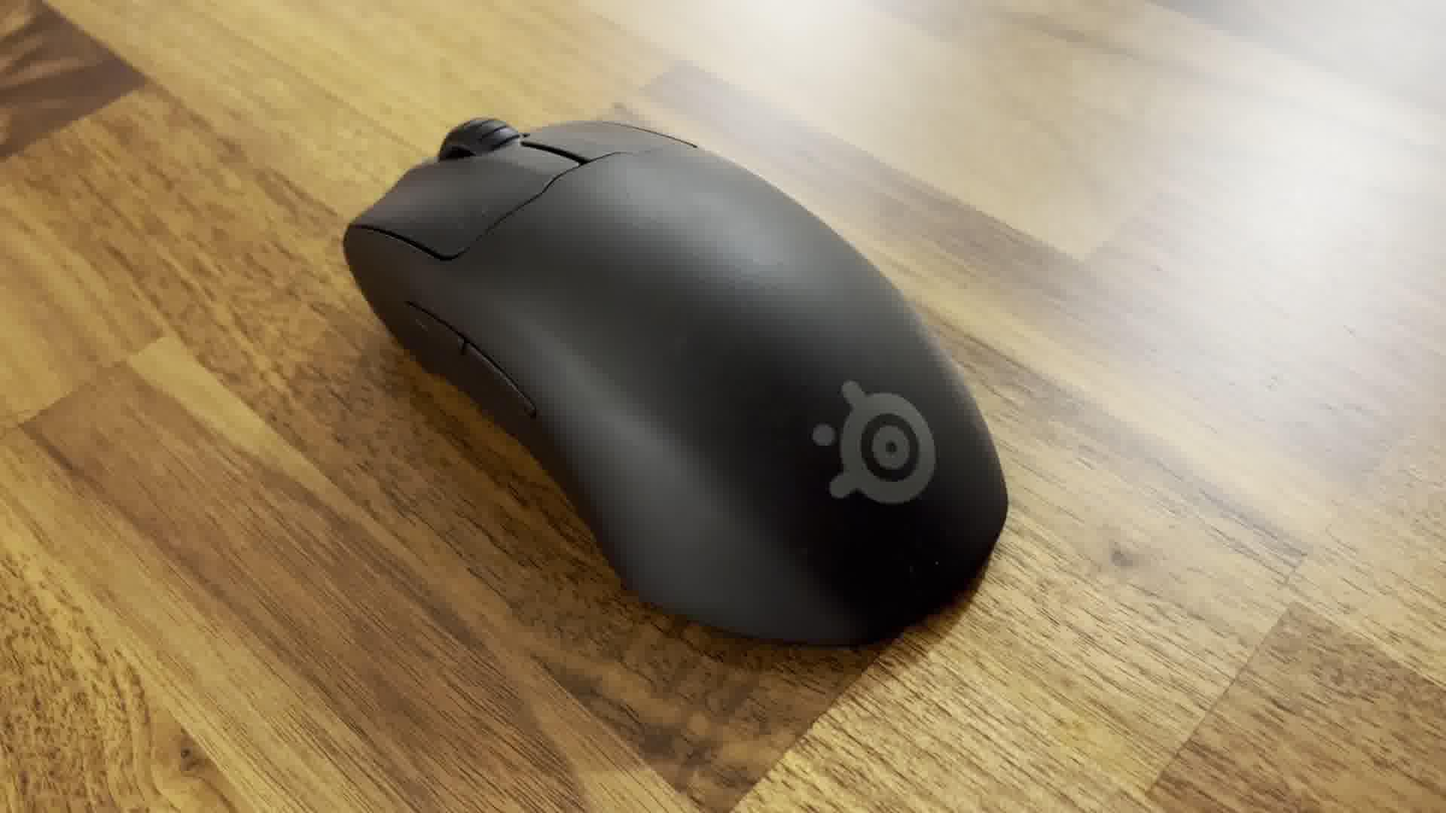steel-series: (335, 104, 1017, 662)
